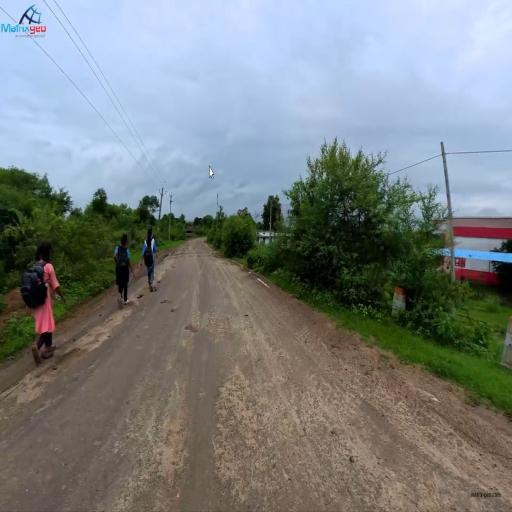ravelling: (219, 346, 361, 491)
